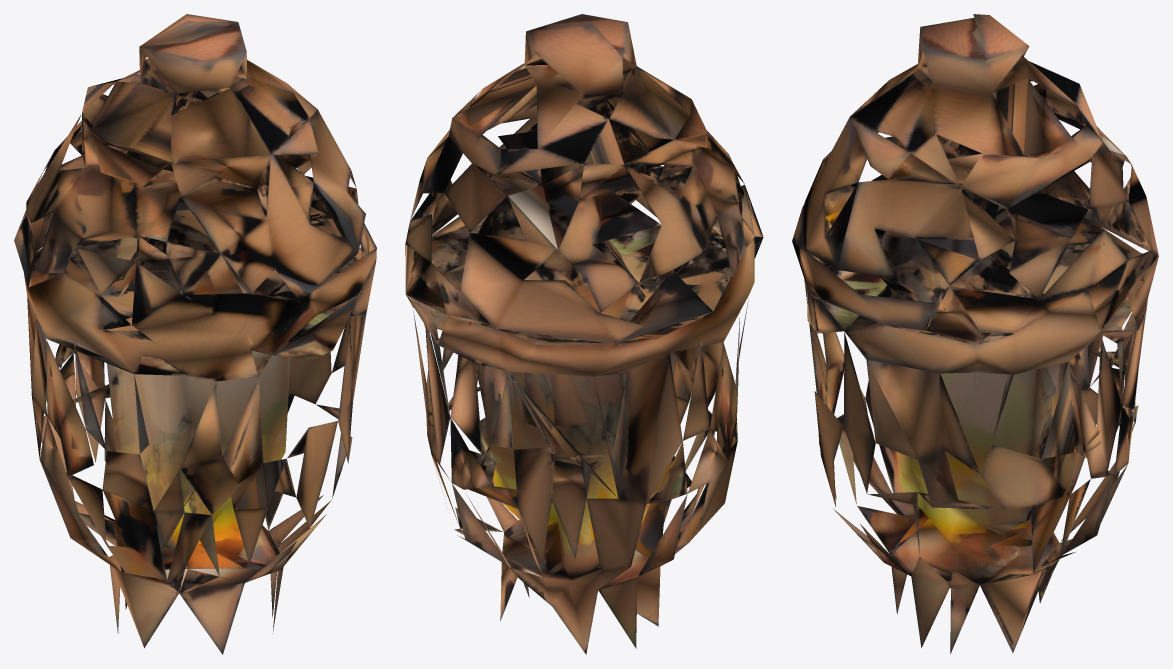
The model's file is Lantern.glb.
3 renders of one model, left to right at view 1: azimuth 30°, elevation 25°; view 2: azimuth 150°, elevation 25°; view 3: azimuth 270°, elevation 25°, orthographic.
Size of the model in its own units: 1.07 by 2 by 1.1.
1 material, 1 textured.
